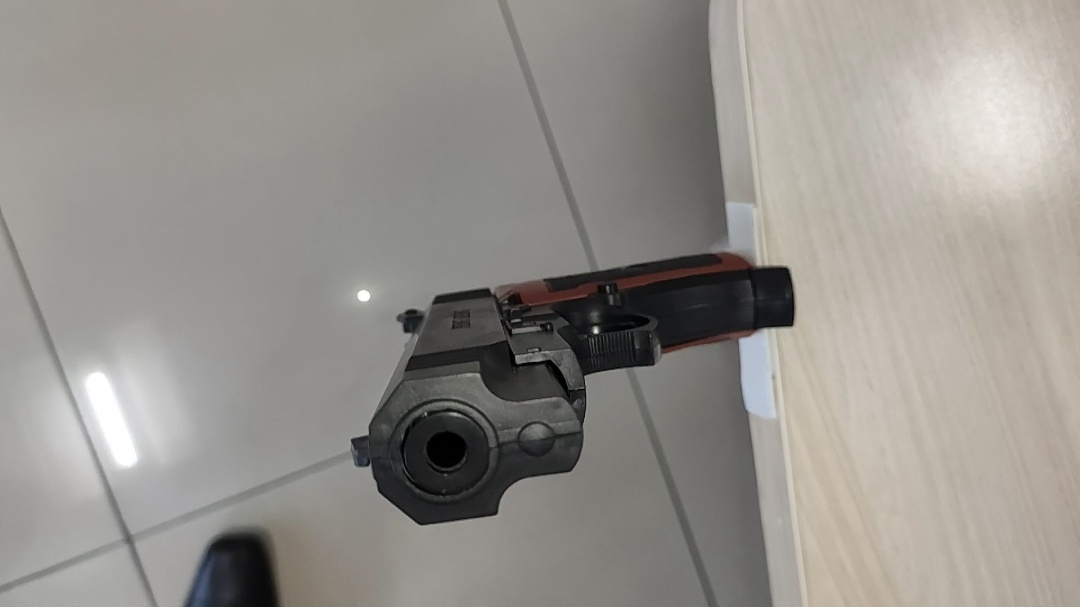gun: (354, 250, 798, 526)
